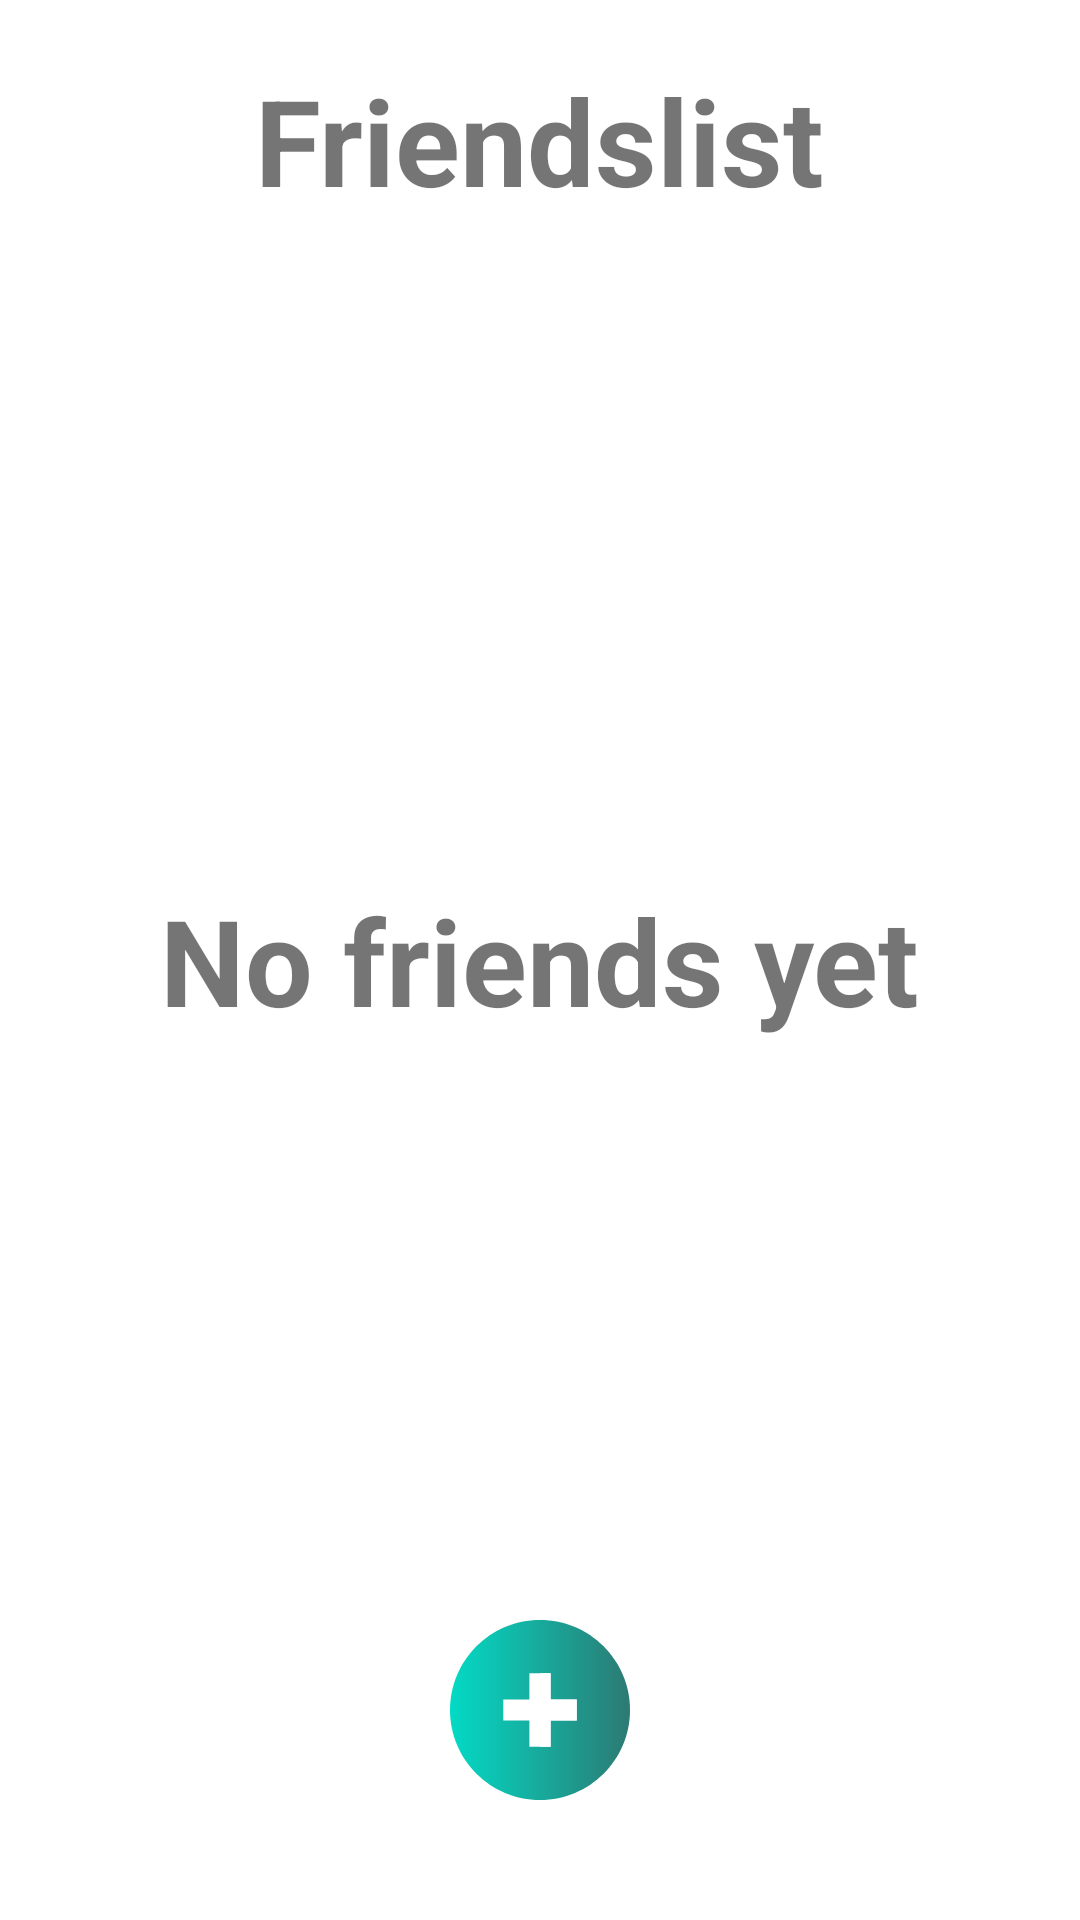

Named icons in this screenshot (1080 x 1920) and their centers, (x,y):
add: (540,1710)
